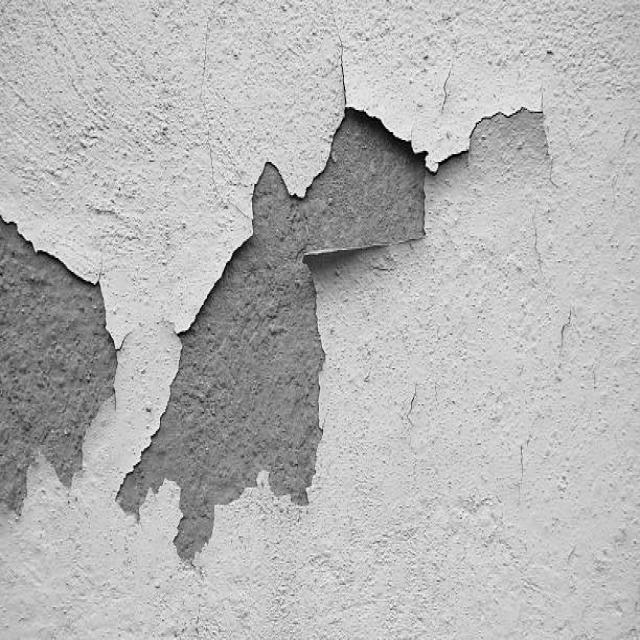peeling paint: (0, 0, 594, 586)
